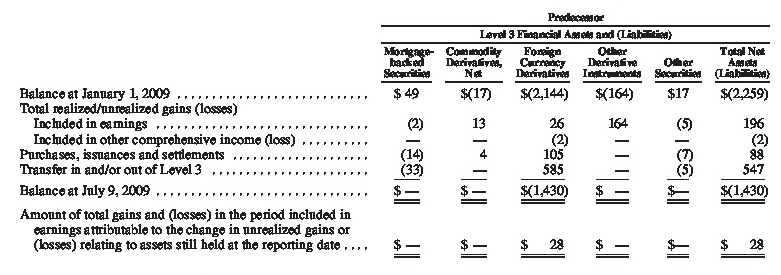table: (0, 0, 781, 275)
